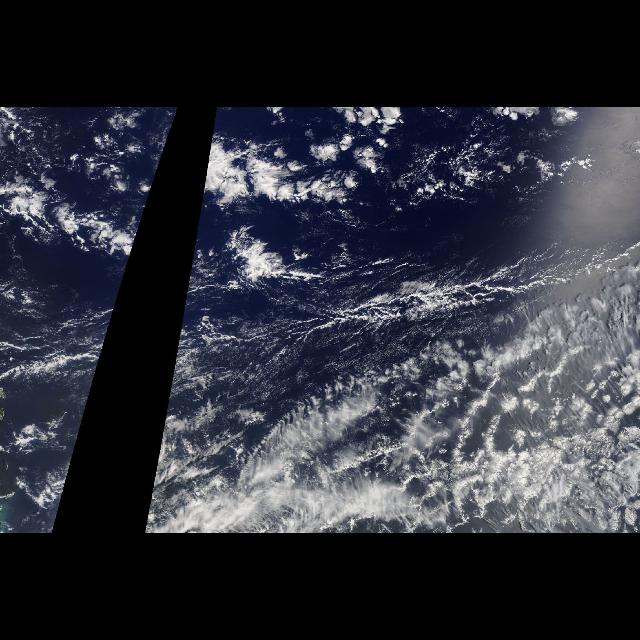Fish: (213, 250, 639, 300)
Flower: (198, 107, 540, 221), (120, 107, 180, 221)
Gravel: (160, 233, 640, 533)
Sugar: (175, 249, 328, 451)
